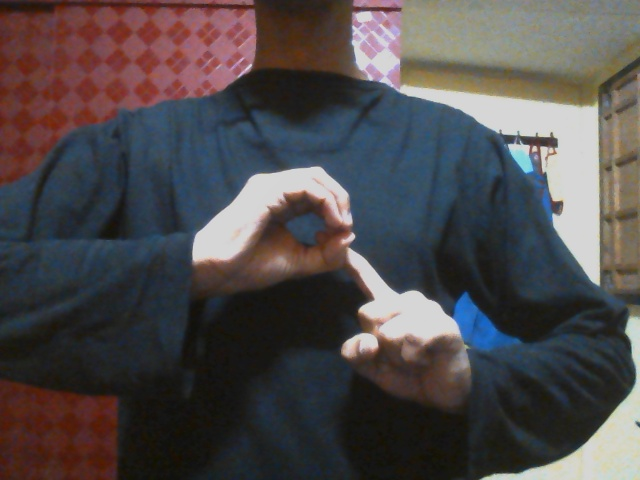Q: (203, 164, 458, 426)
